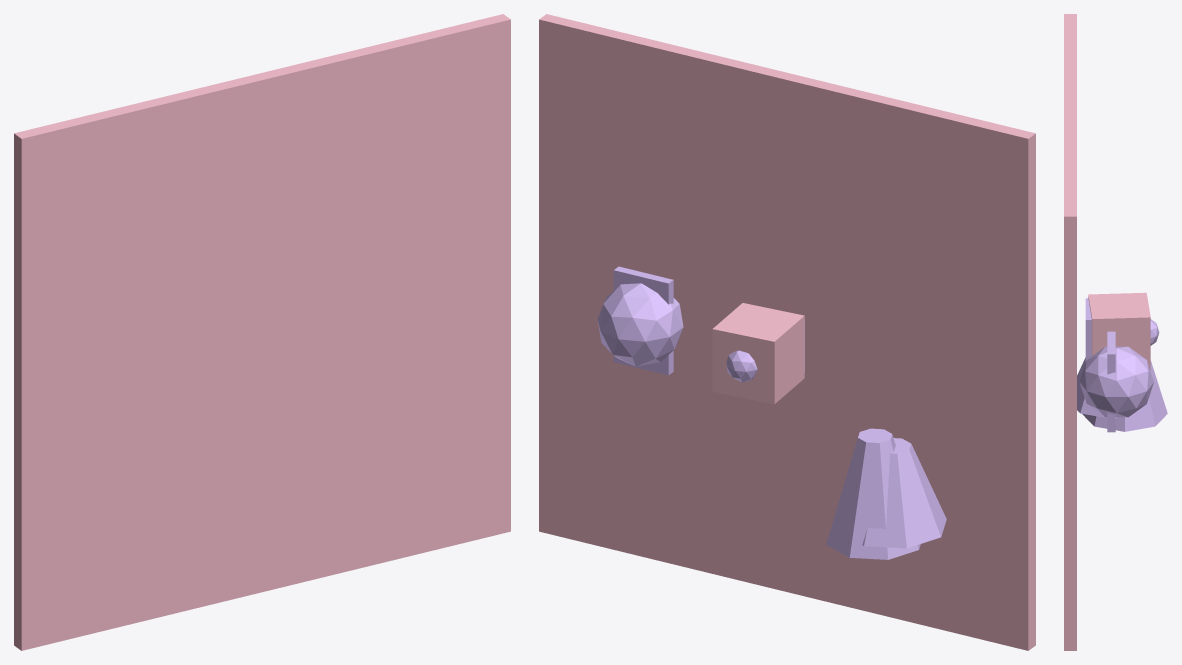
File: synth-rider-kit.glb
3 renders of one model, left to right at view 1: azimuth 30°, elevation 25°; view 2: azimuth 150°, elevation 25°; view 3: azimuth 270°, elevation 25°, orthographic. The views are drawn at different scales.
Parts seen in each view (by area): view 1: ENVIRONMENT_GROUND; view 2: ENVIRONMENT_GROUND, PLAYER_BODY, PROFILE_ENVIRONMENT_DETAIL, OBSTACLE, ENVIRONMENT_LANDMARK, PROFILE_OBSTACLE_DETAIL, PLAYER_CORE; view 3: ENVIRONMENT_GROUND, OBSTACLE, PLAYER_BODY, PROFILE_ENVIRONMENT_DETAIL, PROFILE_OBSTACLE_DETAIL, ENVIRONMENT_LANDMARK, PROFILE_PLAYER_DETAIL, PLAYER_CORE.
Part boxes in pixels (bbox=[...]): ENVIRONMENT_GROUND: bbox=[14, 14, 510, 650]; ENVIRONMENT_GROUND: bbox=[539, 14, 1035, 650]; PLAYER_BODY: bbox=[712, 303, 804, 404]; PROFILE_ENVIRONMENT_DETAIL: bbox=[826, 428, 920, 559]; OBSTACLE: bbox=[597, 283, 683, 366]; ENVIRONMENT_LANDMARK: bbox=[862, 438, 946, 548]; PROFILE_OBSTACLE_DETAIL: bbox=[613, 266, 673, 375]; PLAYER_CORE: bbox=[726, 350, 757, 382]; ENVIRONMENT_GROUND: bbox=[1064, 14, 1076, 650]; OBSTACLE: bbox=[1079, 346, 1153, 417]; PLAYER_BODY: bbox=[1088, 292, 1150, 370]; PROFILE_ENVIRONMENT_DETAIL: bbox=[1082, 360, 1167, 431]; PROFILE_OBSTACLE_DETAIL: bbox=[1107, 331, 1115, 432]; ENVIRONMENT_LANDMARK: bbox=[1077, 357, 1116, 418]; PROFILE_PLAYER_DETAIL: bbox=[1085, 298, 1091, 362]; PLAYER_CORE: bbox=[1150, 319, 1159, 345].
Bounding box in the file's own units: 9 × 9 × 1.95.
